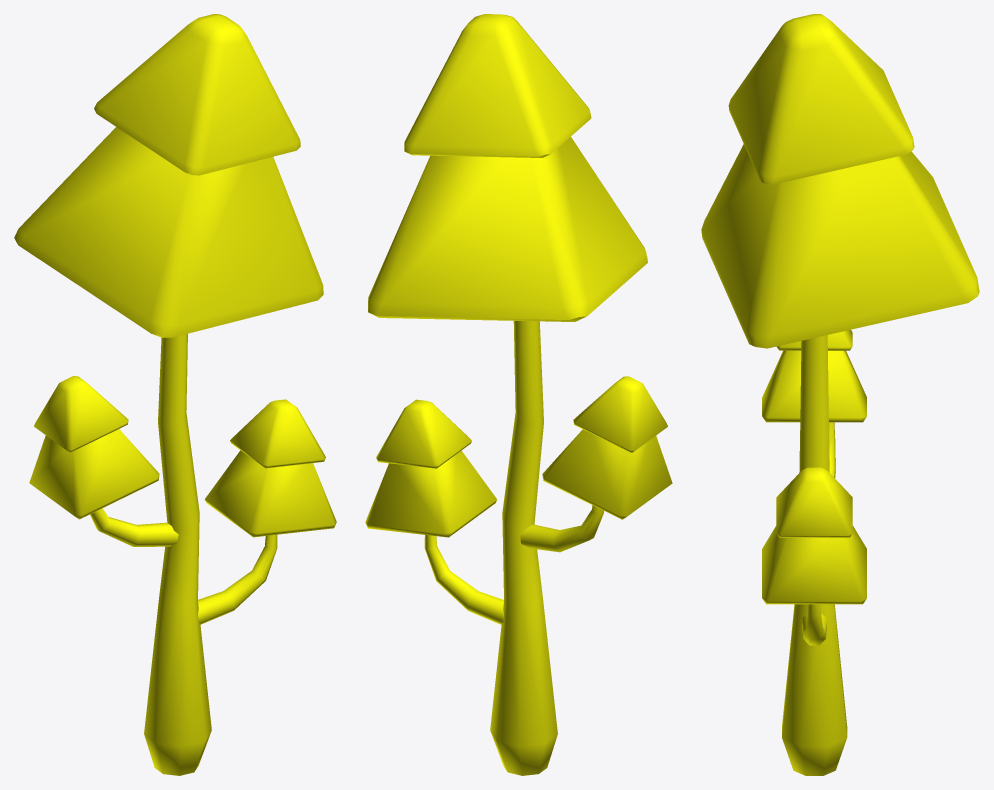
The model's file is kaykit-tree-4-b-color-1.glb.
3 renders of one model, left to right at view 1: azimuth 30°, elevation 25°; view 2: azimuth 150°, elevation 25°; view 3: azimuth 270°, elevation 25°, orthographic. The views are drawn at different scales.
Parts seen in each view (by area): view 1: Tree_4_B_Color1; view 2: Tree_4_B_Color1; view 3: Tree_4_B_Color1.
Part boxes in pixels (bbox=[...]): Tree_4_B_Color1: bbox=[14, 14, 336, 775]; Tree_4_B_Color1: bbox=[365, 14, 672, 775]; Tree_4_B_Color1: bbox=[701, 14, 979, 775].
Size of the model in its own units: 2.57 by 6.94 by 2.27.
